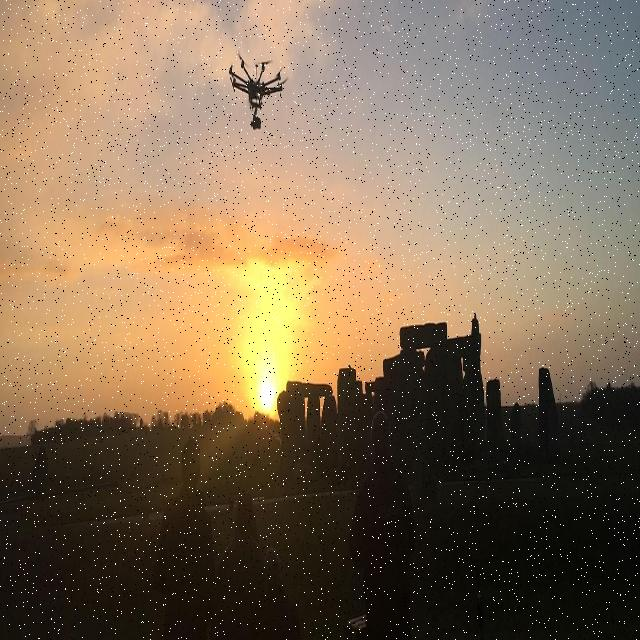UAV: (228, 51, 286, 134)
